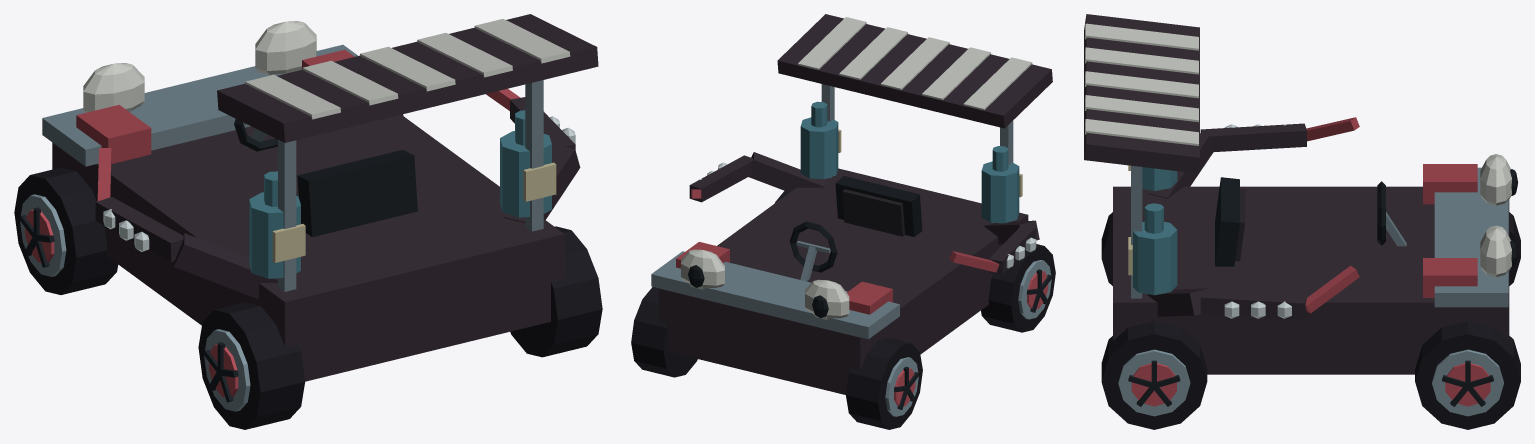
Rendered from kart.glb.
3 renders of one model, left to right at view 1: azimuth 30°, elevation 25°; view 2: azimuth 150°, elevation 25°; view 3: azimuth 270°, elevation 25°, orthographic. The views are drawn at different scales.
Parts seen in each view (by area): view 1: identity-food-cart-food-cart-counter-and-awning, wheel-rear-left, wheel-front-left, identity-food-cart-motif-tentacles, identity-food-cart-driver-cockpit, identity-food-cart-motif-bottles, wheel-rear-right, identity-food-cart-motif-eyes; view 2: identity-food-cart-food-cart-counter-and-awning, wheel-front-left, identity-food-cart-motif-tentacles, identity-food-cart-driver-cockpit, identity-food-cart-motif-bottles, wheel-rear-left, identity-food-cart-motif-eyes, wheel-front-right; view 3: identity-food-cart-food-cart-counter-and-awning, wheel-rear-right, wheel-front-right, identity-food-cart-motif-tentacles, identity-food-cart-motif-bottles, identity-food-cart-driver-cockpit, identity-food-cart-motif-eyes, wheel-rear-left, wheel-front-left.
Boxes of the visible parts, x1,y1,x2,y2 form: identity-food-cart-food-cart-counter-and-awning: [42, 14, 598, 381]; wheel-rear-left: [198, 302, 305, 429]; wheel-front-left: [14, 167, 118, 294]; identity-food-cart-motif-tentacles: [95, 88, 580, 299]; identity-food-cart-driver-cockpit: [234, 119, 417, 237]; identity-food-cart-motif-bottles: [249, 110, 556, 278]; wheel-rear-right: [510, 226, 602, 357]; identity-food-cart-motif-eyes: [83, 21, 316, 112]; identity-food-cart-food-cart-counter-and-awning: [651, 14, 1052, 394]; wheel-front-left: [846, 338, 922, 429]; identity-food-cart-motif-tentacles: [689, 152, 1039, 274]; identity-food-cart-driver-cockpit: [789, 176, 922, 281]; identity-food-cart-motif-bottles: [800, 101, 1022, 223]; wheel-rear-left: [981, 244, 1055, 332]; identity-food-cart-motif-eyes: [681, 249, 849, 319]; wheel-front-right: [631, 287, 697, 377]; identity-food-cart-food-cart-counter-and-awning: [1084, 14, 1509, 374]; wheel-rear-right: [1101, 321, 1207, 429]; wheel-front-right: [1415, 321, 1520, 429]; identity-food-cart-motif-tentacles: [1147, 117, 1359, 319]; identity-food-cart-motif-bottles: [1128, 165, 1177, 295]; identity-food-cart-driver-cockpit: [1215, 177, 1406, 266]; identity-food-cart-motif-eyes: [1480, 154, 1518, 277]; wheel-rear-left: [1101, 212, 1112, 285]; wheel-front-left: [1509, 212, 1520, 285].
Bounding box in the file's own units: 2.45 × 1.76 × 2.48.
